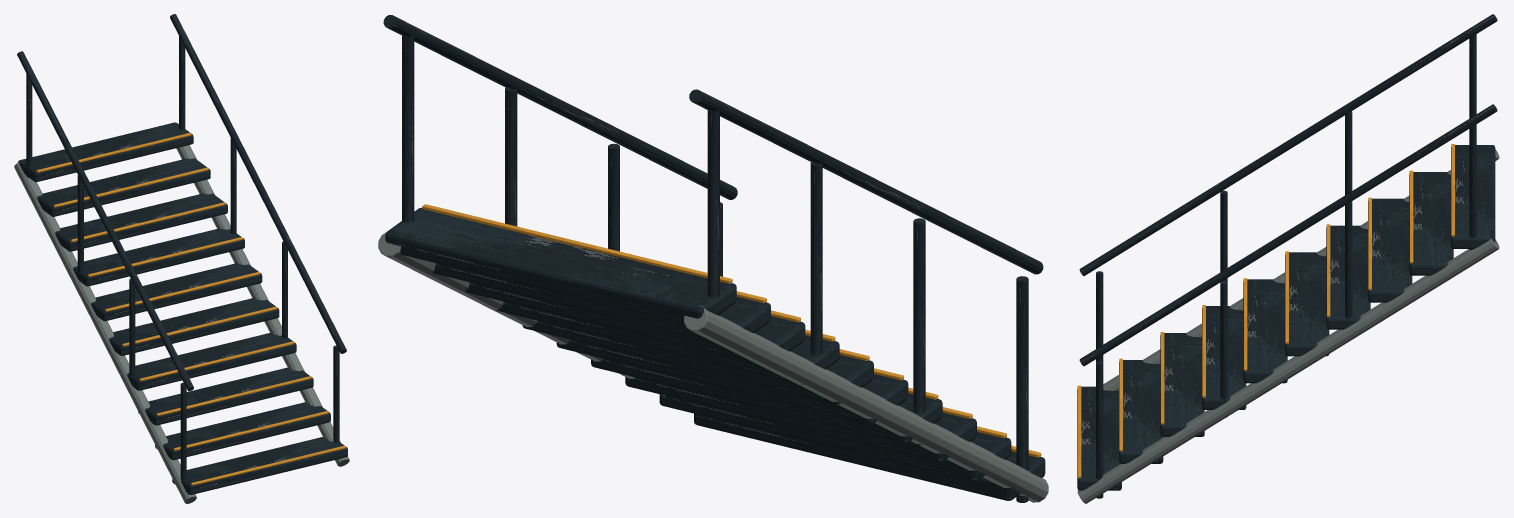
File: stairs.glb
The picture shows the model from 3 angles, left to right: view 1: azimuth 30°, elevation 25°; view 2: azimuth 150°, elevation 25°; view 3: azimuth 270°, elevation 25°; orthographic projection. The views are drawn at different scales.
Visible parts, largest first — view 1: stairs__stairs__steel, stairs__stairs__hardware, stairs__stairs__amber; view 2: stairs__stairs__steel, stairs__stairs__hardware, stairs__stairs__amber; view 3: stairs__stairs__steel, stairs__stairs__hardware, stairs__stairs__amber.
Part boxes in pixels (x1,y1,x2,y2): stairs__stairs__steel: (17, 14, 347, 494); stairs__stairs__hardware: (14, 145, 349, 503); stairs__stairs__amber: (36, 133, 345, 485); stairs__stairs__steel: (383, 15, 1045, 502); stairs__stairs__hardware: (378, 232, 1048, 502); stairs__stairs__amber: (422, 204, 1041, 457); stairs__stairs__steel: (1077, 14, 1497, 498); stairs__stairs__hardware: (1077, 149, 1499, 503); stairs__stairs__amber: (1077, 144, 1454, 478).
Bounding box in the file's own units: 1.55 × 2.97 × 2.85.
3 materials, 2 textured.
